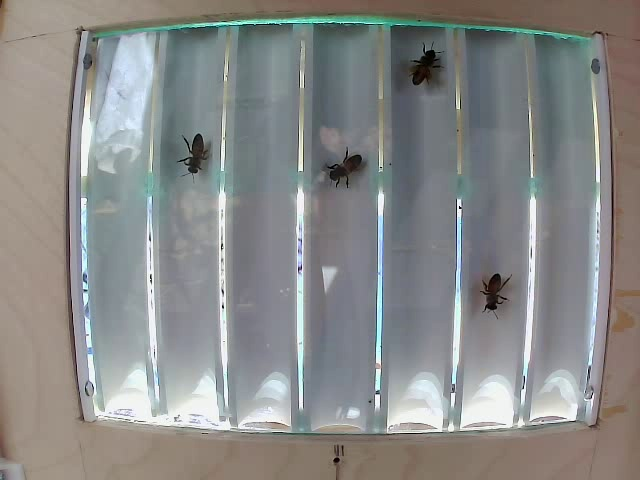bee: (167, 126, 214, 184), (473, 263, 517, 315), (405, 40, 451, 84), (324, 147, 363, 192)
